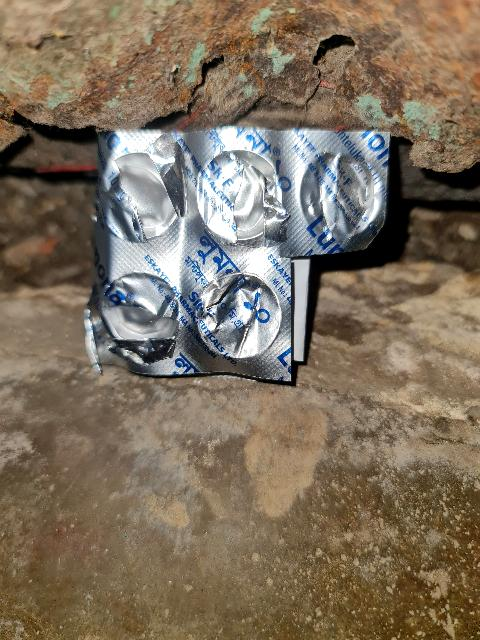medicine: (85, 111, 403, 386)
